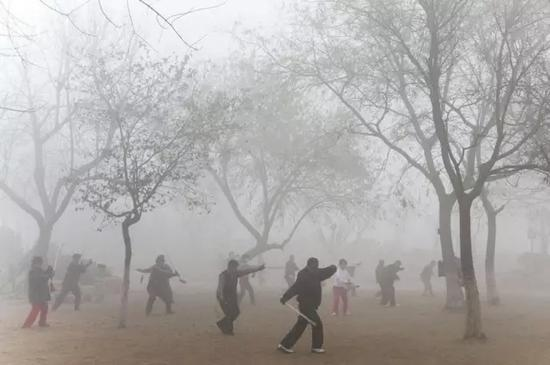person: (274, 255, 337, 355), (214, 258, 264, 337), (133, 253, 175, 317), (19, 254, 53, 328), (50, 251, 89, 311), (329, 257, 361, 315), (376, 258, 403, 309), (235, 252, 259, 309), (416, 258, 437, 298), (282, 254, 301, 298)
